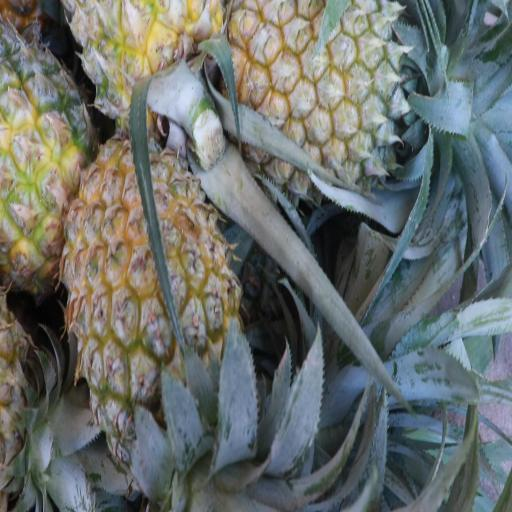------------------------------: (0, 4, 97, 296)
Pineapple - v8 v1: (55, 124, 253, 512), (220, 0, 414, 196), (59, 0, 237, 180)
